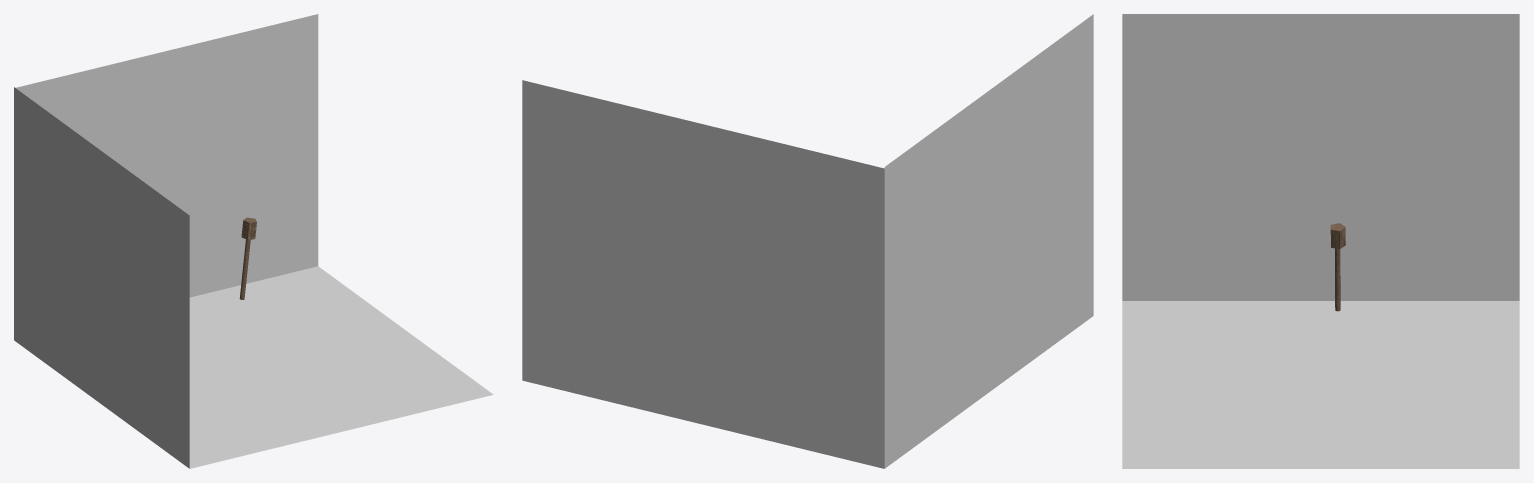
File: 木のメイス.fbx
3 views of the same model, side by side, from view 1: azimuth 30°, elevation 25°; view 2: azimuth 150°, elevation 25°; view 3: azimuth 270°, elevation 25° (orthographic). The views are drawn at different scales.
Parts seen in each view (by area): view 1: 平面; view 2: 平面; view 3: 平面.
Boxes of the visible parts, box(x1,y1,x2,y2) form: 平面: box(14, 14, 493, 468); 平面: box(522, 14, 1093, 468); 平面: box(1122, 14, 1519, 468).
Bounding box in the file's own units: 2624 × 2089 × 2624.
Materials: 3 (2 with a texture image).
